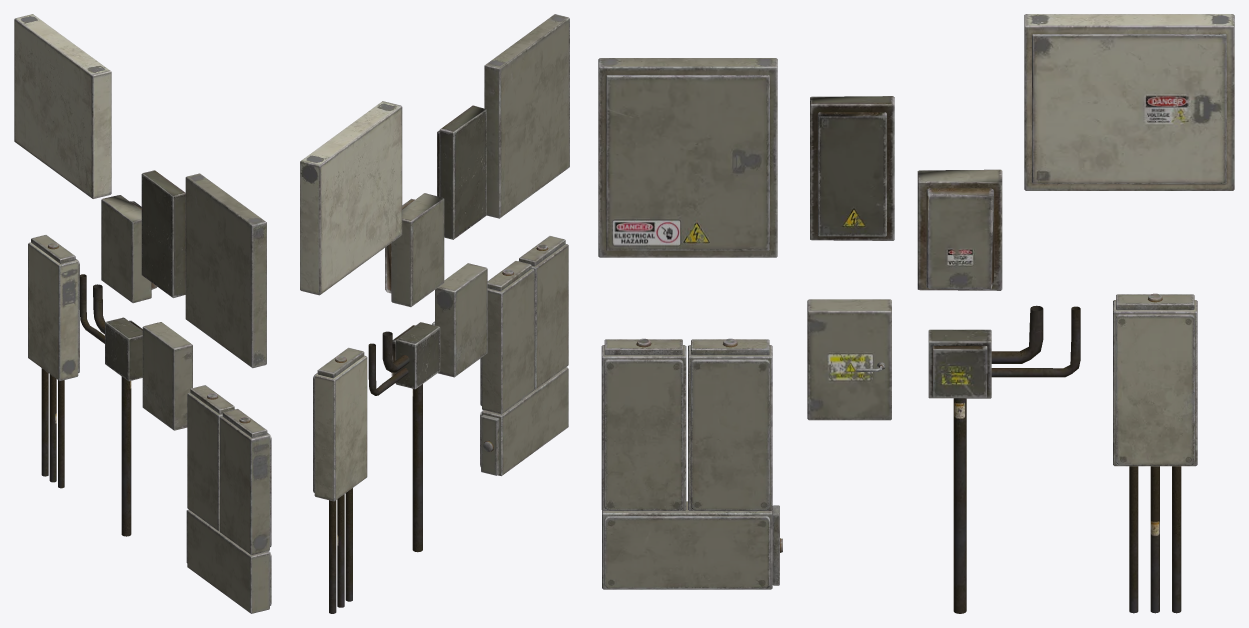
File: electrical-boxes.glb
3 renders of one model, left to right at view 1: azimuth 30°, elevation 25°; view 2: azimuth 150°, elevation 25°; view 3: azimuth 270°, elevation 25°, orthographic. The views are drawn at different scales.
Parts seen in each view (by area): view 1: modular-box-01_electrical_boxes_0, modular-box-04_electrical_boxes_0, modular-box-group-04000_electrical_boxes_0, modular-box-group-01000_electrical_boxes_0, modular-box-03_electrical_boxes_0, modular-box-group-03000_electrical_boxes_0, modular-box-05_electrical_boxes_0, modular-box-02_electrical_boxes_0, modular-box-group-02000_electrical_boxes_0, modular-box-06_electrical_boxes_0, modular-tube-a01_electrical_boxes_0, modular-tube-b02_electrical_boxes_0 (+6 smaller); view 2: modular-box-01_electrical_boxes_0, modular-box-04_electrical_boxes_0, modular-box-group-04000_electrical_boxes_0, modular-box-group-02000_electrical_boxes_0, modular-box-03_electrical_boxes_0, modular-box-02_electrical_boxes_0, modular-box-05_electrical_boxes_0, modular-box-group-03000_electrical_boxes_0, modular-box-group-01000_electrical_boxes_0, modular-box-06_electrical_boxes_0, modular-tube-a01_electrical_boxes_0, modular-box-group-03001_electrical_boxes_0 (+7 smaller); view 3: modular-box-01_electrical_boxes_0, modular-box-04_electrical_boxes_0, modular-box-03_electrical_boxes_0, modular-box-group-03003_electrical_boxes_0, modular-box-group-04003_electrical_boxes_0, modular-box-group-01003_electrical_boxes_0, modular-box-group-02003_electrical_boxes_0, modular-box-02_electrical_boxes_0, modular-box-05_electrical_boxes_0, modular-box-06_electrical_boxes_0, modular-tube-a01_electrical_boxes_0, modular-box-group-01000_electrical_boxes_0 (+10 smaller).
Part boxes in pixels (x1=…): modular-box-01_electrical_boxes_0: x1=14, y1=14, x2=111, y2=198; modular-box-04_electrical_boxes_0: x1=185, y1=173, x2=266, y2=368; modular-box-group-04000_electrical_boxes_0: x1=28, y1=242, x2=78, y2=380; modular-box-group-01000_electrical_boxes_0: x1=220, y1=416, x2=269, y2=555; modular-box-03_electrical_boxes_0: x1=141, y1=170, x2=185, y2=298; modular-box-group-03000_electrical_boxes_0: x1=187, y1=510, x2=269, y2=613; modular-box-05_electrical_boxes_0: x1=142, y1=322, x2=192, y2=430; modular-box-02_electrical_boxes_0: x1=101, y1=195, x2=157, y2=303; modular-box-group-02000_electrical_boxes_0: x1=187, y1=392, x2=222, y2=531; modular-box-06_electrical_boxes_0: x1=105, y1=317, x2=142, y2=381; modular-tube-a01_electrical_boxes_0: x1=121, y1=376, x2=131, y2=536; modular-tube-b02_electrical_boxes_0: x1=49, y1=374, x2=56, y2=482; modular-box-01_electrical_boxes_0: x1=300, y1=101, x2=402, y2=295; modular-box-04_electrical_boxes_0: x1=484, y1=14, x2=569, y2=218; modular-box-group-04000_electrical_boxes_0: x1=314, y1=355, x2=367, y2=501; modular-box-group-02000_electrical_boxes_0: x1=482, y1=269, x2=534, y2=414; modular-box-03_electrical_boxes_0: x1=437, y1=105, x2=486, y2=239; modular-box-02_electrical_boxes_0: x1=385, y1=193, x2=444, y2=307; modular-box-05_electrical_boxes_0: x1=435, y1=263, x2=487, y2=377; modular-box-group-03000_electrical_boxes_0: x1=482, y1=367, x2=568, y2=476; modular-box-group-01000_electrical_boxes_0: x1=531, y1=244, x2=568, y2=389; modular-box-06_electrical_boxes_0: x1=391, y1=322, x2=440, y2=389; modular-tube-a01_electrical_boxes_0: x1=412, y1=384, x2=422, y2=552; modular-box-group-03001_electrical_boxes_0: x1=481, y1=414, x2=499, y2=475; modular-box-01_electrical_boxes_0: x1=1024, y1=14, x2=1234, y2=190; modular-box-04_electrical_boxes_0: x1=598, y1=58, x2=777, y2=257; modular-box-03_electrical_boxes_0: x1=810, y1=96, x2=894, y2=240; modular-box-group-03003_electrical_boxes_0: x1=604, y1=516, x2=770, y2=588; modular-box-group-04003_electrical_boxes_0: x1=1115, y1=314, x2=1194, y2=465; modular-box-group-01003_electrical_boxes_0: x1=604, y1=359, x2=683, y2=510; modular-box-group-02003_electrical_boxes_0: x1=691, y1=359, x2=769, y2=510; modular-box-02_electrical_boxes_0: x1=917, y1=169, x2=1002, y2=290; modular-box-05_electrical_boxes_0: x1=807, y1=299, x2=891, y2=420; modular-box-06_electrical_boxes_0: x1=928, y1=329, x2=991, y2=398; modular-tube-a01_electrical_boxes_0: x1=953, y1=398, x2=966, y2=613; modular-box-group-01000_electrical_boxes_0: x1=601, y1=345, x2=686, y2=511.
Bounding box in the file's own units: 0.15 × 2.16 × 2.1.
1 material, 1 textured.
